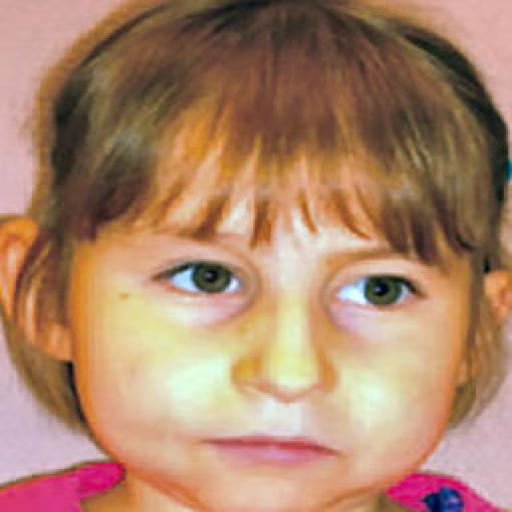Autism: (16, 8, 512, 512)
